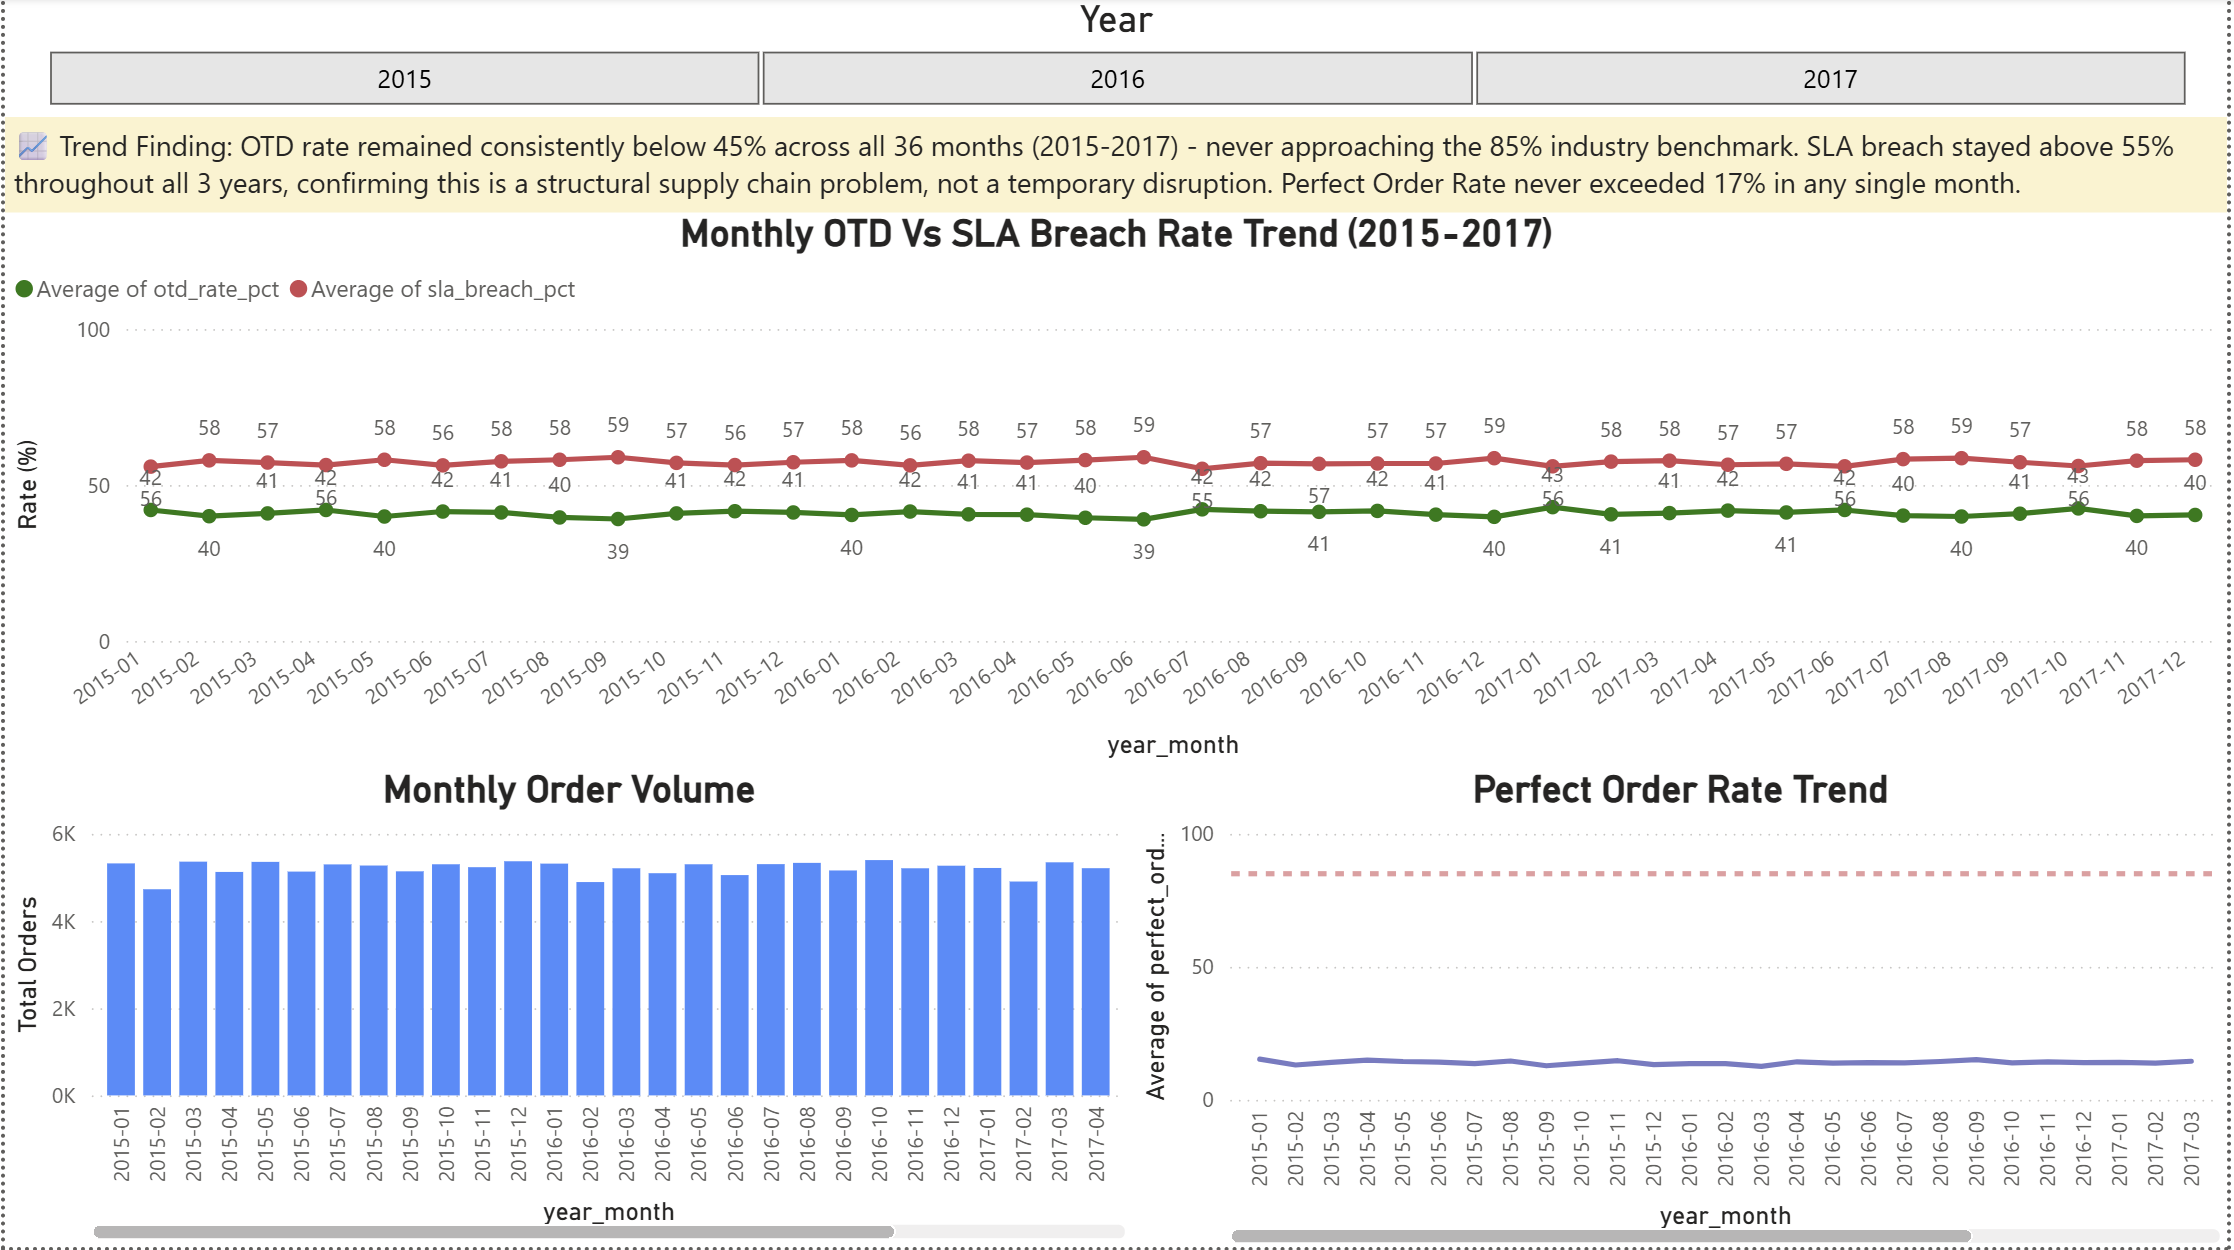

This screenshot's page, from the dashboard's own definition file:
{"tool":"powerbi","page":{"name":"Monthly Trend","canvas":[1280,720],"ordinal":3},"visuals":[{"type":"lineChart","title":"Monthly OTD Vs SLA Breach Rate Trend (2015-2017)","fields":{"Y":["Avg(VW_Monthly_Trend.otd_rate_pct)","Avg(VW_Monthly_Trend.sla_breach_pct)"],"Category":["DIM_Month.year_month"]},"box":[0,123.7,1280,320],"z":0},{"type":"clusteredColumnChart","title":"Monthly Order Volume","fields":{"Y":["Sum(VW_Monthly_Trend.total_orders)"],"Category":["DIM_Month.year_month"]},"box":[0,443.7,650.2,276.7],"z":1},{"type":"lineChart","title":"Perfect Order Rate Trend","fields":{"Y":["Avg(VW_Monthly_Trend.perfect_order_pct)"],"Category":["DIM_Month.year_month"]},"box":[650.2,443.7,631.1,279.2],"z":2},{"type":"slicer","title":"Year","fields":{"Values":["DIM_Month.order_year"]},"box":[0,0,1280,68.8],"z":3},{"type":"textbox","box":[0,68.8,1281.3,54.8],"z":4}]}

Visuals, with their boxes in screenshot pixels (x1, y1, x2, y2), scaled from the page's 1280x720 canvas onto the 2234x1250 screenshot:
"Monthly OTD Vs SLA Breach Rate Trend (2015-2017)" lineChart: BBox(0, 215, 2233, 770)
"Monthly Order Volume" clusteredColumnChart: BBox(0, 770, 1135, 1249)
"Perfect Order Rate Trend" lineChart: BBox(1135, 770, 2233, 1249)
"Year" slicer: BBox(0, 0, 2233, 119)
textbox: BBox(0, 119, 2233, 215)
